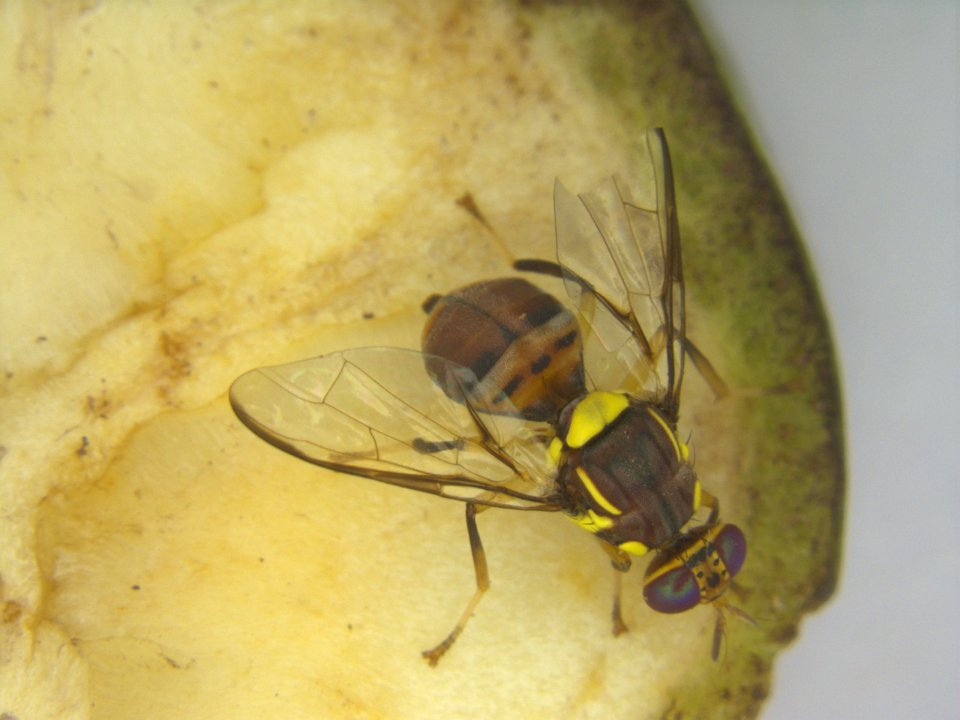Fruit fly: (243, 141, 783, 687)
